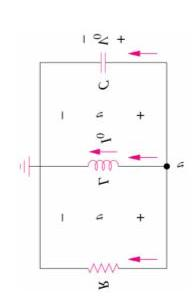inductor: (79, 151, 123, 177)
